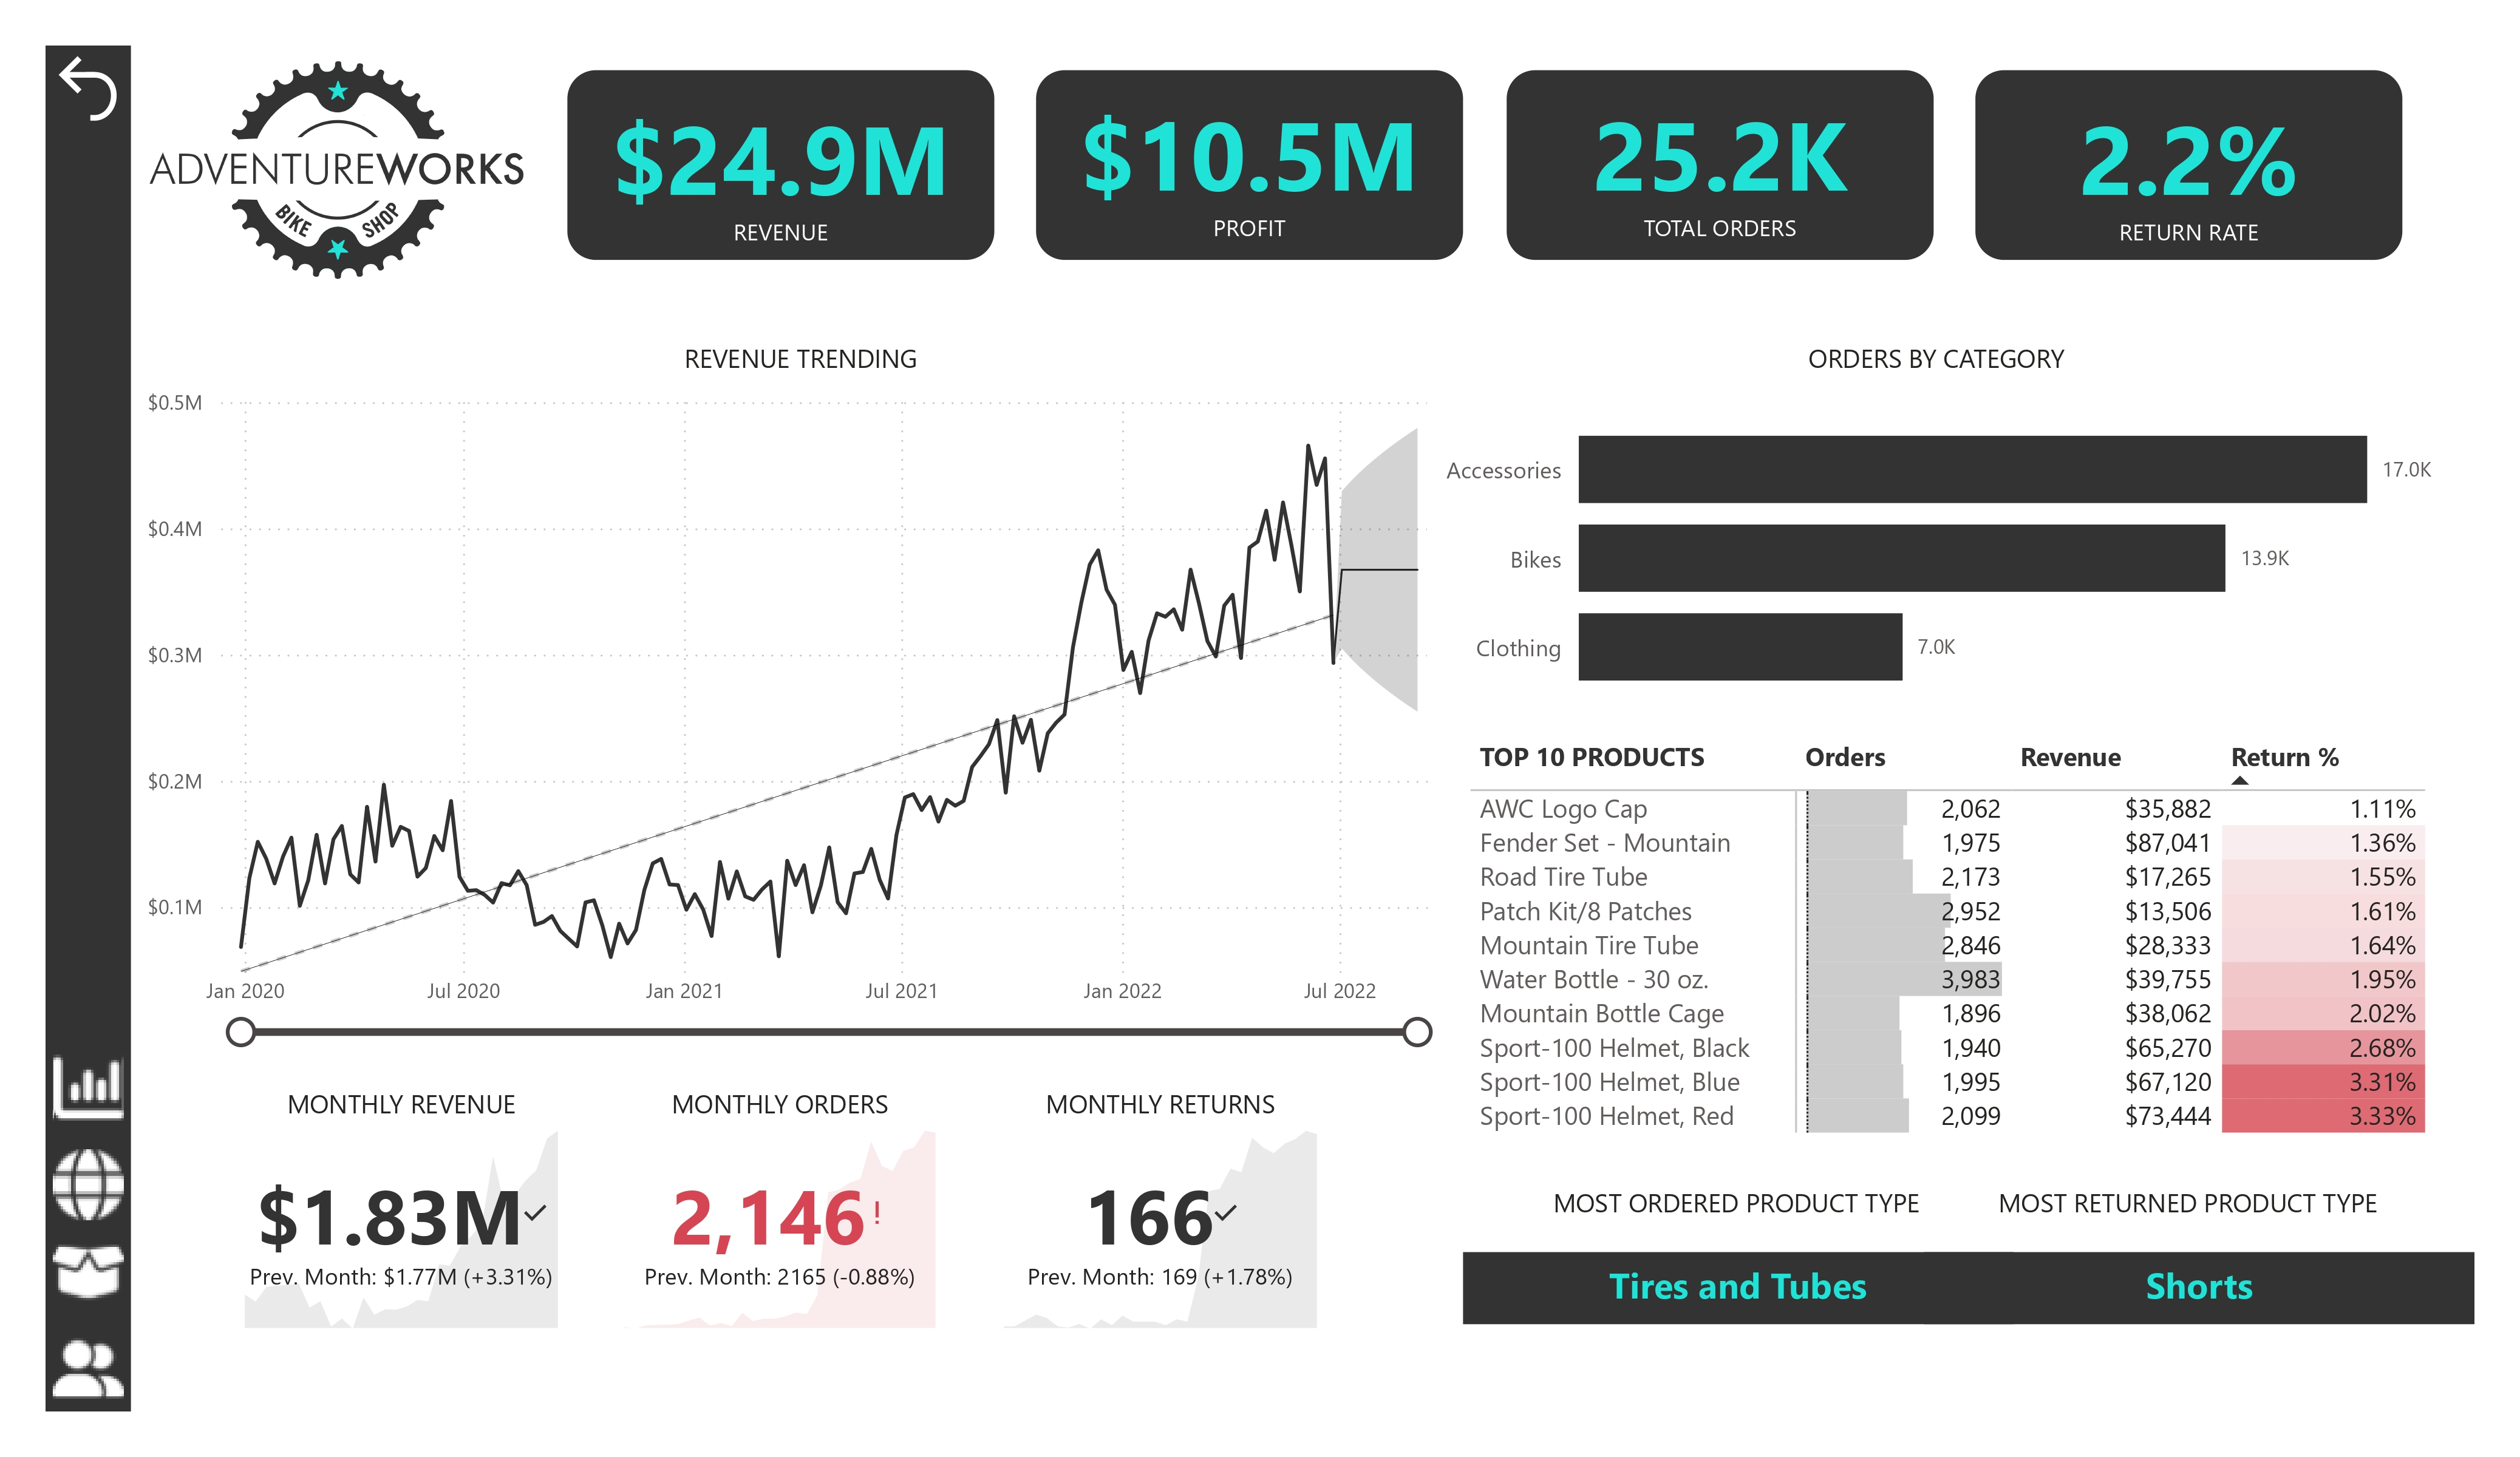

What the dashboard file says about the page in this screenshot:
{"tool":"powerbi","page":{"name":"EXEC Dashboar","canvas":[1280,720],"ordinal":0},"visuals":[{"type":"image","title":"AW Logo","box":[14.7,0,277.6,130.8],"z":0},{"type":"shape","box":[275.1,13.5,225,100],"z":0,"group":"g2"},{"type":"card","fields":{"Values":["Measure Table.Total Revenue"]},"box":[253.1,15.9,269,100.3],"z":0,"group":"g3"},{"type":"shape","title":"Left Nav Background","box":[0,0,45.2,720.2],"z":1000},{"type":"card","fields":{"Values":["Measure Table.Total profit"]},"box":[500.5,13.5,269,100.3],"z":1000,"group":"g3"},{"type":"shape","box":[769.9,13.5,225,100.3],"z":1000,"group":"g2"},{"type":"group","id":"g1","title":"KPI's","box":[253.1,13.5,1011.3,102.7],"z":2000},{"type":"group","id":"g2","title":"KPI Backgrounds","box":[275.1,13.5,967.3,100.3],"z":2000,"group":"g1"},{"type":"card","fields":{"Values":["Measure Table.Total Orders"]},"box":[747.9,13.5,269,100.3],"z":2000,"group":"g3"},{"type":"shape","box":[1017.4,13.5,225,100.3],"z":2000,"group":"g2"},{"type":"group","id":"g3","title":"KPI VALUES","box":[253.1,13.5,1011.3,102.7],"z":3000,"group":"g1"},{"type":"shape","box":[522.5,13.5,225,100.3],"z":3000,"group":"g2"},{"type":"card","fields":{"Values":["Measure Table.Return Rate"]},"box":[995.4,15.9,269,100.3],"z":3000,"group":"g3"},{"type":"lineChart","title":"REVENUE TRENDING","fields":{"Y":["Measure Table.Total Revenue"],"Category":["Calendar Lookup.Date Hierarchy.Year","Calendar Lookup.Date Hierarchy.Start of Month","Calendar Lookup.Date Hierarchy.Start of Week","Calendar Lookup.Date Hierarchy.Date"]},"box":[47.5,156.2,700,375],"z":3000},{"type":"kpi","title":"MONTHLY REVENUE","fields":{"Indicator":["Measure Table.Total Revenue"],"TrendLine":["Calendar Lookup.Start of Month"],"Goal":["Measure Table.Previous Month Revenue"]},"box":[100.3,549.1,174.9,132.1],"z":4000},{"type":"kpi","title":"MONTHLY ORDERS","fields":{"TrendLine":["Calendar Lookup.Start of Month"],"Indicator":["Measure Table.Total Orders"],"Goal":["Measure Table.Previous Month Orders"]},"box":[299.6,549.1,174.9,132.1],"z":5000},{"type":"kpi","title":"MONTHLY RETURNS","fields":{"TrendLine":["Calendar Lookup.Start of Month"],"Indicator":["Measure Table.Total Returns"],"Goal":["Measure Table.Previous Month Returns"]},"box":[500.1,549.1,174.9,132.1],"z":6000},{"type":"clusteredBarChart","title":"ORDERS BY CATEGORY","fields":{"Category":["Product Categories Lookup.CategoryName"],"Y":["Measure Table.Total Orders"]},"box":[727.5,156.2,537.5,203.8],"z":7000},{"type":"pivotTable","fields":{"Rows":["Product Lookup.ProductName"],"Values":["Measure Table.Total Orders","Measure Table.Total Revenue","Measure Table.Return Rate"]},"box":[745.9,360.7,517.3,236],"z":8000},{"type":"card","fields":{"Values":["Min(Product Subcategories Lookup.SubcategoryName)"]},"box":[747.2,635.9,289.8,37.9],"z":9000},{"type":"textbox","box":[745.9,595.5,289.8,39.1],"z":10000},{"type":"card","fields":{"Values":["Min(Product Subcategories Lookup.SubcategoryName)"]},"box":[990.5,635.9,289.8,37.9],"z":11000},{"type":"textbox","box":[984.4,595.5,289.8,39.1],"z":12000},{"type":"actionButton","box":[0.2,526.8,45,45],"z":14000,"group":"g4"},{"type":"actionButton","box":[0.2,623.8,45,45],"z":15000,"group":"g4"},{"type":"actionButton","box":[0,675,45.2,45],"z":16000,"group":"g4"},{"type":"actionButton","box":[0.2,577.8,45,45],"z":17000,"group":"g4"},{"type":"group","id":"g4","title":"NAVGVIGATION BUTTON","box":[0,526.8,45.2,193.2],"z":17001},{"type":"actionButton","box":[0,0,45.2,45],"z":17501}]}

Visuals, with their boxes on the page's 1280x720 design canvas (x1, y1, x2, y2). These are canvas units, not pixel positions in the 2520x1457 screenshot, which may show the page scaled, cropped or inside an application window:
"AW Logo" image: 15,0,292,131
shape: 275,14,500,114
card - Measure Table.Total Revenue: 253,16,522,116
"Left Nav Background" shape: 0,0,45,720
card - Measure Table.Total profit: 500,14,770,114
shape: 770,14,995,114
"KPI's" group: 253,14,1264,116
"KPI Backgrounds" group: 275,14,1242,114
card - Measure Table.Total Orders: 748,14,1017,114
shape: 1017,14,1242,114
"KPI VALUES" group: 253,14,1264,116
shape: 522,14,748,114
card - Measure Table.Return Rate: 995,16,1264,116
"REVENUE TRENDING" lineChart: 48,156,748,531
"MONTHLY REVENUE" kpi: 100,549,275,681
"MONTHLY ORDERS" kpi: 300,549,474,681
"MONTHLY RETURNS" kpi: 500,549,675,681
"ORDERS BY CATEGORY" clusteredBarChart: 728,156,1265,360
pivotTable - Product Lookup.ProductName x Measure Table.Total Orders: 746,361,1263,597
card - Min(Product Subcategories Lookup.SubcategoryName): 747,636,1037,674
textbox: 746,596,1036,635
card - Min(Product Subcategories Lookup.SubcategoryName): 990,636,1280,674
textbox: 984,596,1274,635
actionButton: 0,527,45,572
actionButton: 0,624,45,669
actionButton: 0,675,45,720
actionButton: 0,578,45,623
"NAVGVIGATION BUTTON" group: 0,527,45,720
actionButton: 0,0,45,45
